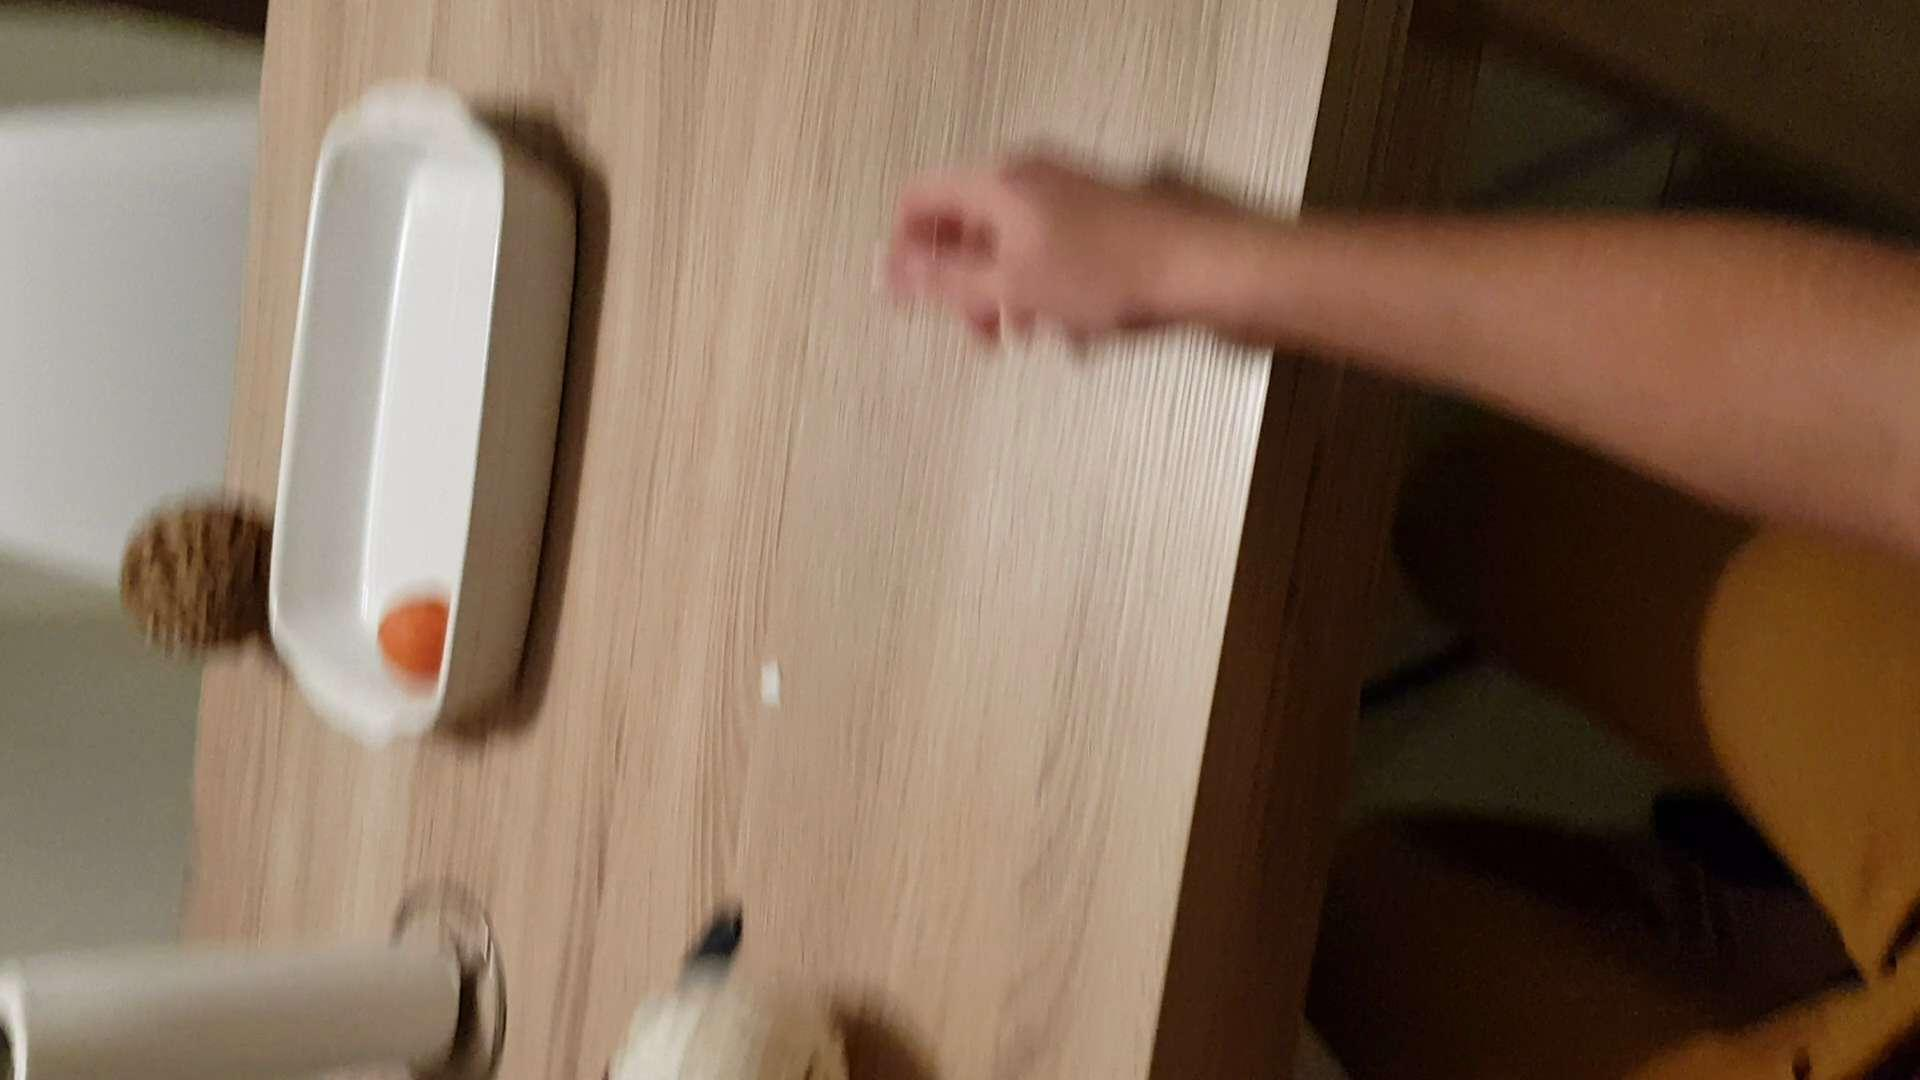Sphere: (108, 493, 286, 662)
